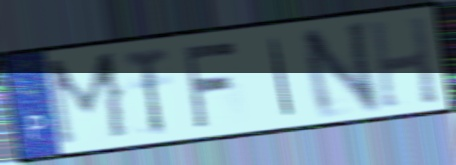F: (179, 37, 239, 131)
H: (367, 13, 441, 112)
I: (267, 35, 296, 118)
M: (44, 48, 132, 150)
N: (297, 17, 383, 123)
T: (121, 44, 171, 138)
